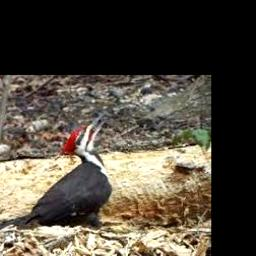Woodpecker: (0, 114, 113, 230)
